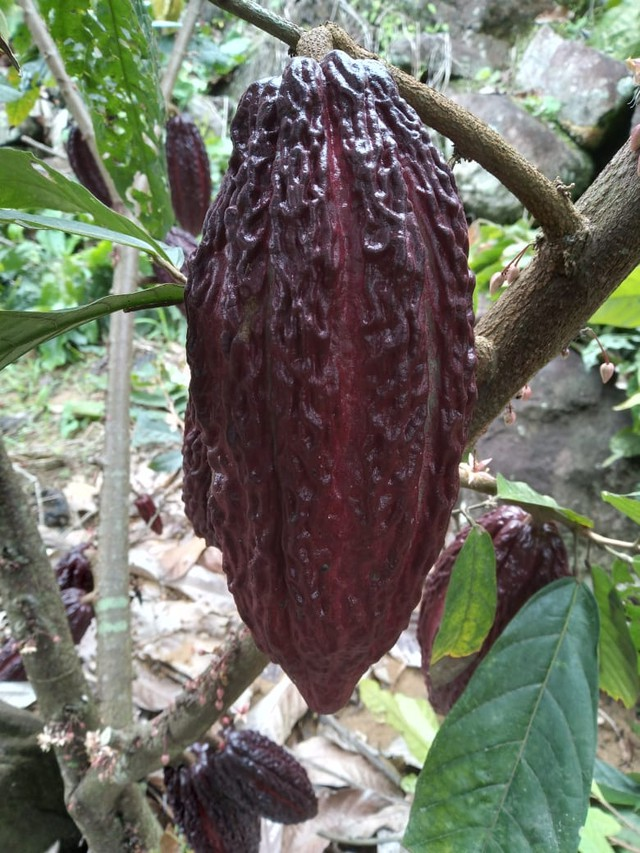Health: (178, 44, 483, 727)
